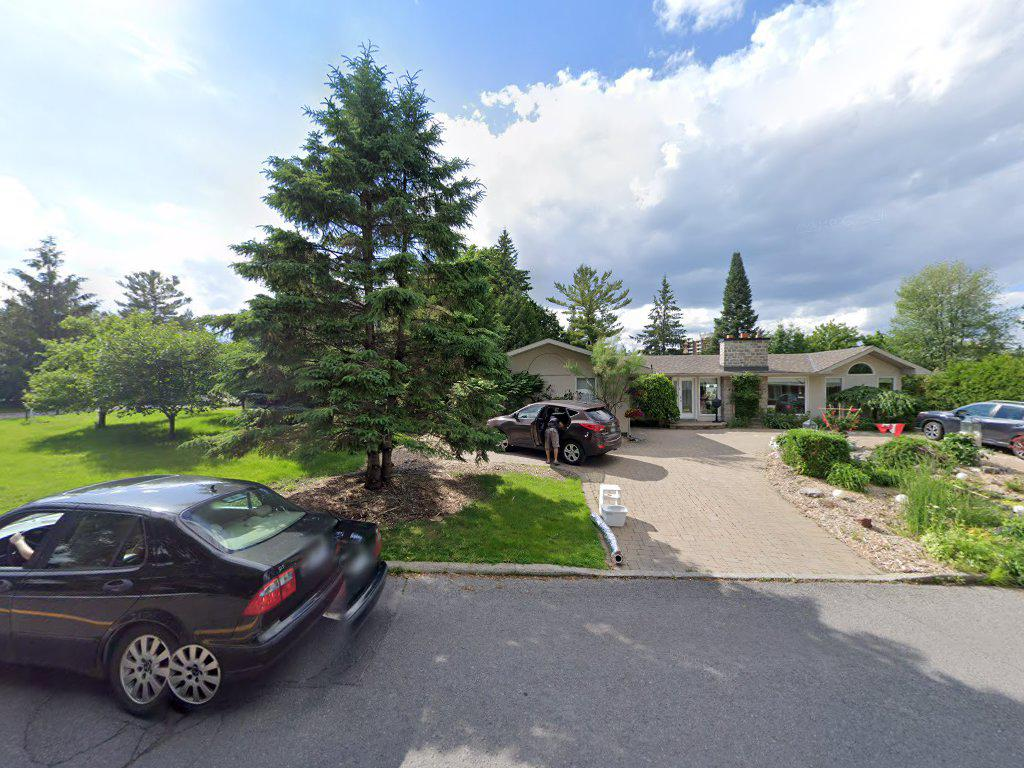trunk: (361, 417, 405, 492)
